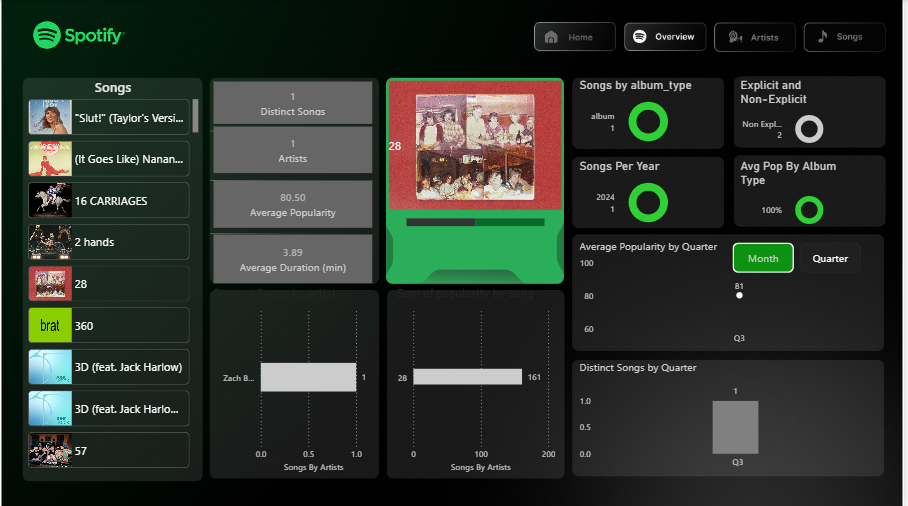

The dashboard page shown, as its layout file describes it:
{"tool":"powerbi","page":{"name":"Page 1","canvas":[1280,720],"ordinal":0},"visuals":[{"type":"clusteredBarChart","fields":{"Y":["_Measures.Distinct Songs"],"Category":["Top_50_World.artist"]},"box":[297.3,404.8,235.2,268.8],"z":0},{"type":"clusteredBarChart","fields":{"Category":["Top_50_World.song"],"Y":["Sum(Top_50_World.popularity)"]},"box":[557.7,404.8,235.2,268.8],"z":1000},{"type":"areaChart","fields":{"Category":["Top_50_World.Qtr"],"Y":["_Measures.Average Popularity"]},"box":[816.4,339.3,433.4,157.9],"z":2000},{"type":"advancedSlicerVisual","fields":{"Values":["Slicer_Option.Slicer_Option"]},"box":[1033.1,339.3,193.2,53.8],"z":3000},{"type":"donutChart","title":"Songs by album_type","fields":{"Category":["Top_50_World.album_type"],"Y":["_Measures.Distinct Songs"]},"box":[816.4,110.9,204.9,102.5],"z":4000},{"type":"donutChart","title":"Explicit and Non-Explicit","fields":{"Y":["_Measures.Explicit Songs","_Measures.Non Explicit Songs"]},"box":[1044.8,110.9,204.9,102.5],"z":5000},{"type":"donutChart","title":"Songs Per Year","fields":{"Y":["_Measures.Distinct Songs"],"Category":["Top_50_World.Year"]},"box":[816.4,225.1,204.9,102.5],"z":6000},{"type":"donutChart","title":"Avg Pop By Album Type","fields":{"Category":["Top_50_World.album_type"],"Y":["_Measures.Average Popularity"]},"box":[1044.8,225.1,204.9,102.5],"z":7000},{"type":"clusteredColumnChart","fields":{"Category":["Top_50_World.Qtr"],"Y":["_Measures.Distinct Songs"]},"box":[816.4,510.7,433.4,162.9],"z":8000},{"type":"cardVisual","fields":{"Data":["Count(Top_50_World.artist)"]},"box":[297.6,174.3,235.3,76.5],"z":9000},{"type":"cardVisual","fields":{"Data":["_Measures.Average Popularity"]},"box":[297.7,250.6,235.5,77.4],"z":10000},{"type":"cardVisual","fields":{"Data":["_Measures.Average Duration (min)"]},"box":[297.7,328,235.5,79.1],"z":11000},{"type":"cardVisual","fields":{"Data":["_Measures.Distinct Songs"]},"box":[297.7,111,235.5,70.6],"z":12000},{"type":"advancedSlicerVisual","title":"Songs ","fields":{"Values":["Top_50_World.song"]},"box":[33.6,111,252.3,563.5],"z":13000},{"type":"advancedSlicerVisual","title":"Songs ","fields":{"Values":["Top_50_World.song"]},"box":[513.1,96.4,321.7,219.7],"z":14000},{"type":"hundredPercentStackedBarChart","fields":{"Y":["_Measures.Average Popularity","Avg(Top_50_World.popularity)"]},"box":[571.2,276.4,205.5,70.9],"z":15000}]}

Visuals, with their boxes on the page's 1280x720 design canvas (x1, y1, x2, y2). These are canvas units, not pixel positions in the 908x506 screenshot, which may show the page scaled, cropped or inside an application window:
clusteredBarChart - _Measures.Distinct Songs x Top_50_World.artist: 297,405,532,674
clusteredBarChart - Top_50_World.song x Sum(Top_50_World.popularity): 558,405,793,674
areaChart - Top_50_World.Qtr x _Measures.Average Popularity: 816,339,1250,497
advancedSlicerVisual - Slicer_Option.Slicer_Option: 1033,339,1226,393
"Songs by album_type" donutChart: 816,111,1021,213
"Explicit and Non-Explicit" donutChart: 1045,111,1250,213
"Songs Per Year" donutChart: 816,225,1021,328
"Avg Pop By Album Type" donutChart: 1045,225,1250,328
clusteredColumnChart - Top_50_World.Qtr x _Measures.Distinct Songs: 816,511,1250,674
cardVisual - Count(Top_50_World.artist): 298,174,533,251
cardVisual - _Measures.Average Popularity: 298,251,533,328
cardVisual - _Measures.Average Duration (min): 298,328,533,407
cardVisual - _Measures.Distinct Songs: 298,111,533,182
"Songs " advancedSlicerVisual: 34,111,286,674
"Songs " advancedSlicerVisual: 513,96,835,316
hundredPercentStackedBarChart - _Measures.Average Popularity x Avg(Top_50_World.popularity): 571,276,777,347
